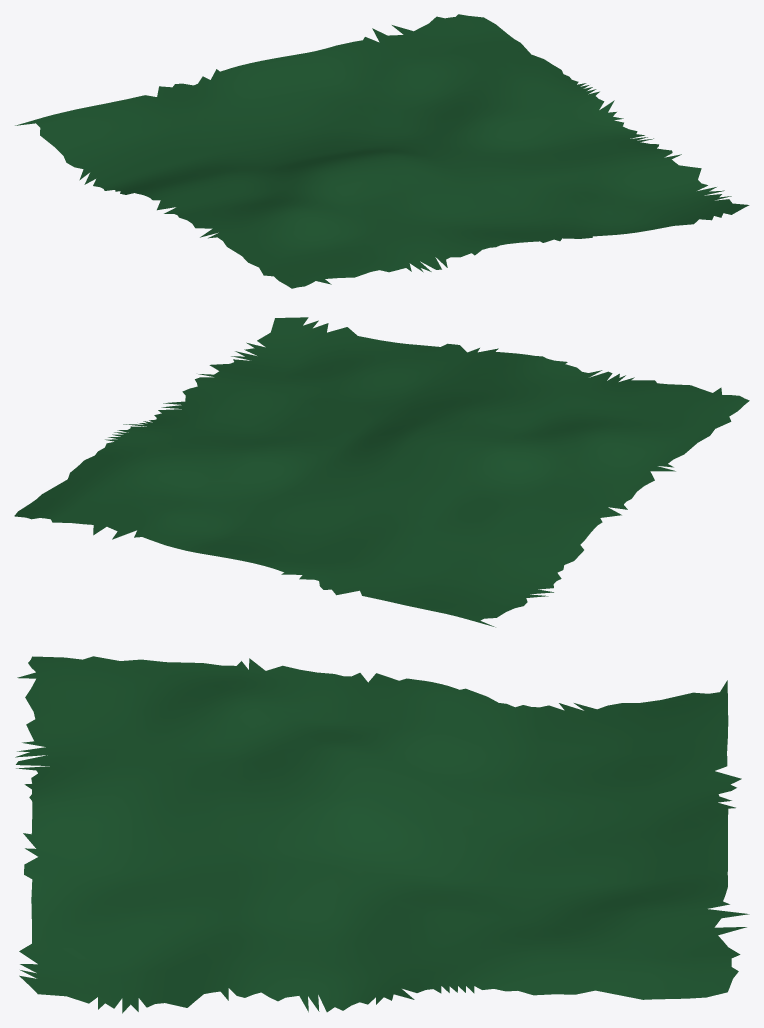
Rendered from payo_land_xm4_ym3.glb.
3 views of the same model, one above another, from view 1: azimuth 30°, elevation 25°; view 2: azimuth 150°, elevation 25°; view 3: azimuth 270°, elevation 25° (orthographic). The views are drawn at different scales.
Visible parts, largest first — view 1: payo_land_xm4_ym3; view 2: payo_land_xm4_ym3; view 3: payo_land_xm4_ym3.
Boxes of the visible parts, x1,y1,x2,y2 form: payo_land_xm4_ym3: (15, 14, 749, 288); payo_land_xm4_ym3: (14, 317, 749, 627); payo_land_xm4_ym3: (15, 656, 749, 1013).
Size of the model in its own units: 272 by 24 by 270.
